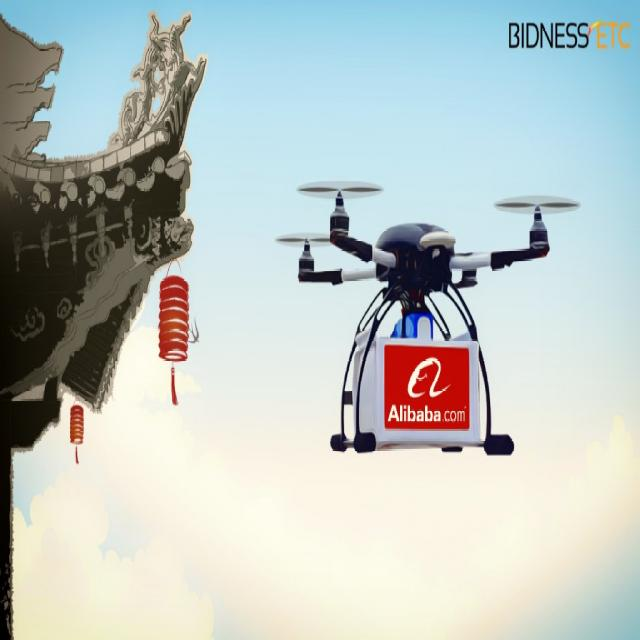drones: (271, 159, 585, 464)
